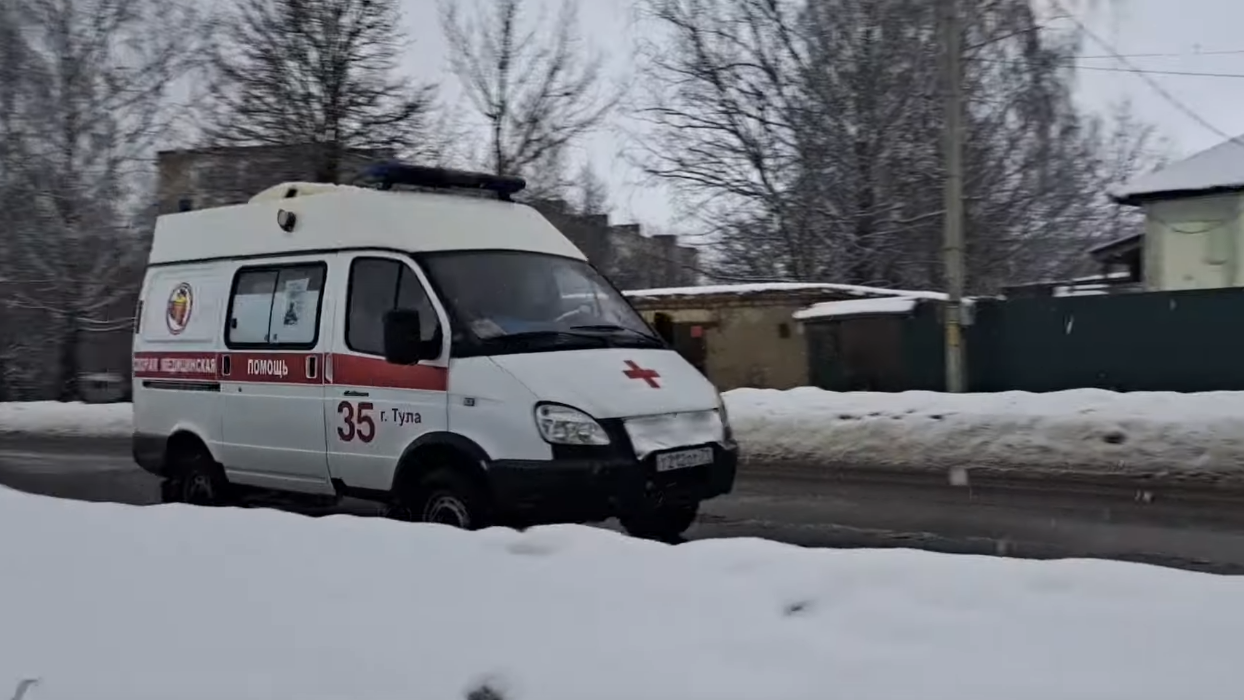ambulance: (132, 164, 738, 546)
